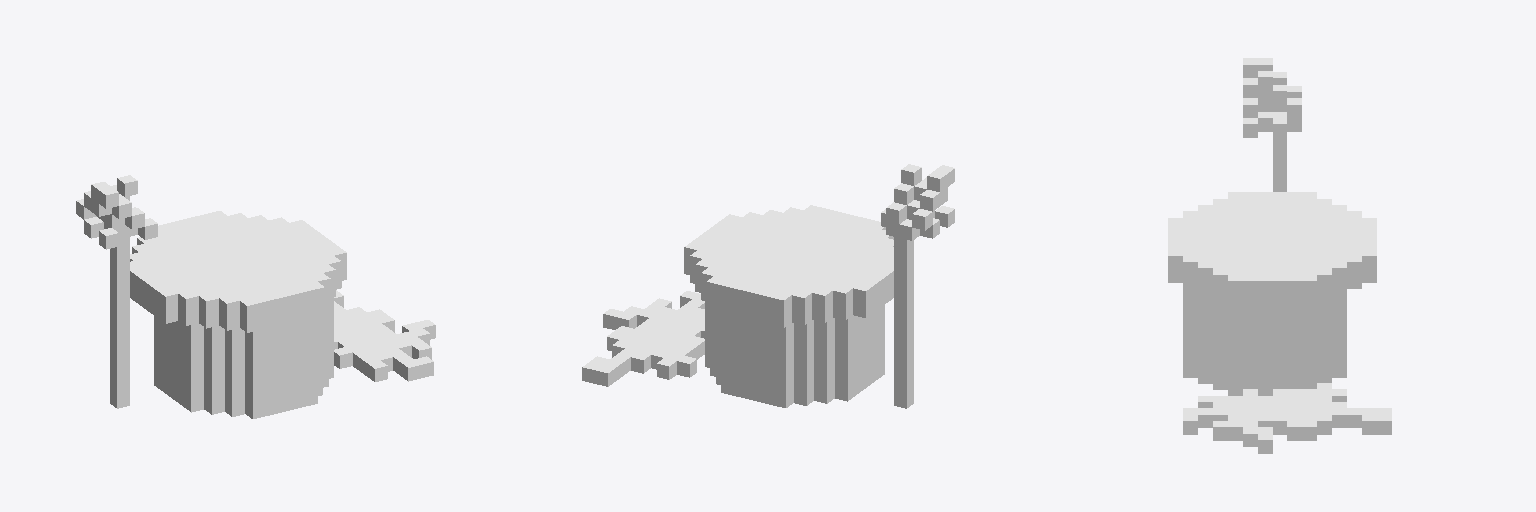
The model's file is altarsacrificio.obj.
The picture shows the model from 3 angles: view 1: azimuth 30°, elevation 25°; view 2: azimuth 150°, elevation 25°; view 3: azimuth 270°, elevation 25°; orthographic projection.
Visible parts, largest first — view 1: object 1; view 2: object 1; view 3: object 1.
Boxes of the visible parts, x1,y1,x2,y2 form: object 1: [76, 175, 435, 418]; object 1: [582, 164, 954, 408]; object 1: [1168, 58, 1391, 453].
Bounding box in the file's own units: 2.6 × 1.7 × 1.5.